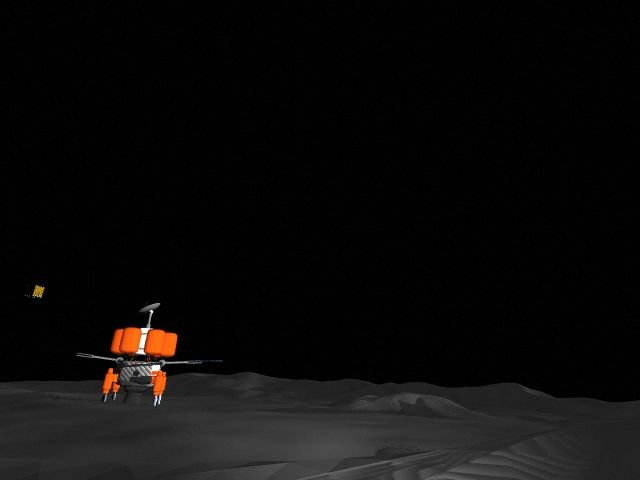cubesat: (21, 278, 47, 302)
